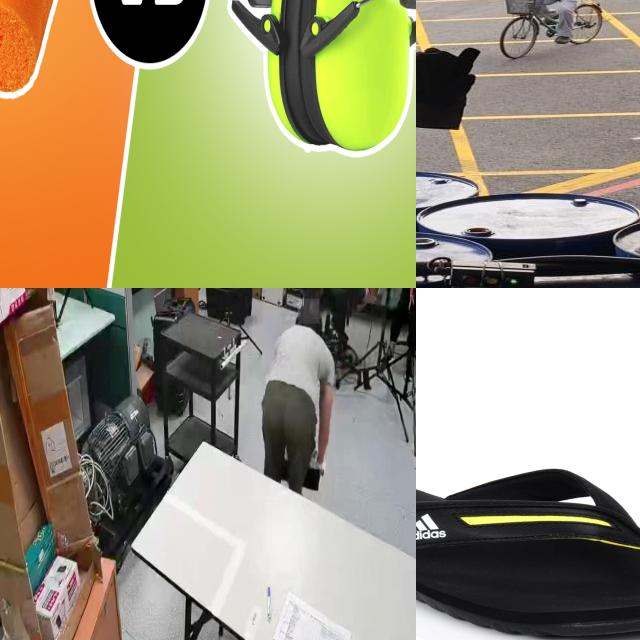Ear-protection: (312, 0, 416, 158), (265, 0, 318, 147)
Sandals: (416, 465, 640, 640)
hand_noglove: (407, 288, 415, 313)
head_nohelmet: (298, 298, 320, 324)
person: (252, 302, 338, 499), (386, 288, 416, 405)
